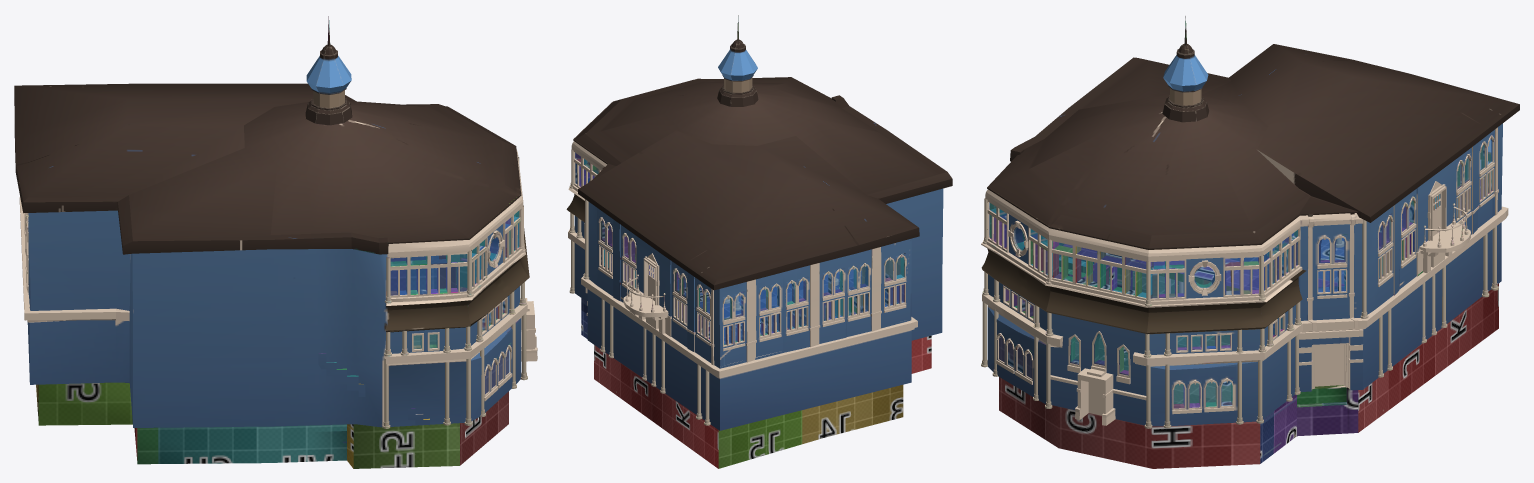
The model's file is library.fbx.
The picture shows the model from 3 angles, left to right: view 1: azimuth 30°, elevation 25°; view 2: azimuth 150°, elevation 25°; view 3: azimuth 270°, elevation 25°; orthographic projection. The views are drawn at different scales.
Visible parts, largest first — view 1: library; view 2: library; view 3: library.
Boxes of the visible parts, x1,y1,x2,y2 form: library: [14, 16, 537, 468]; library: [566, 15, 952, 468]; library: [981, 16, 1519, 468].
Bounding box in the file's own units: 30.39 × 25.98 × 33.41.
